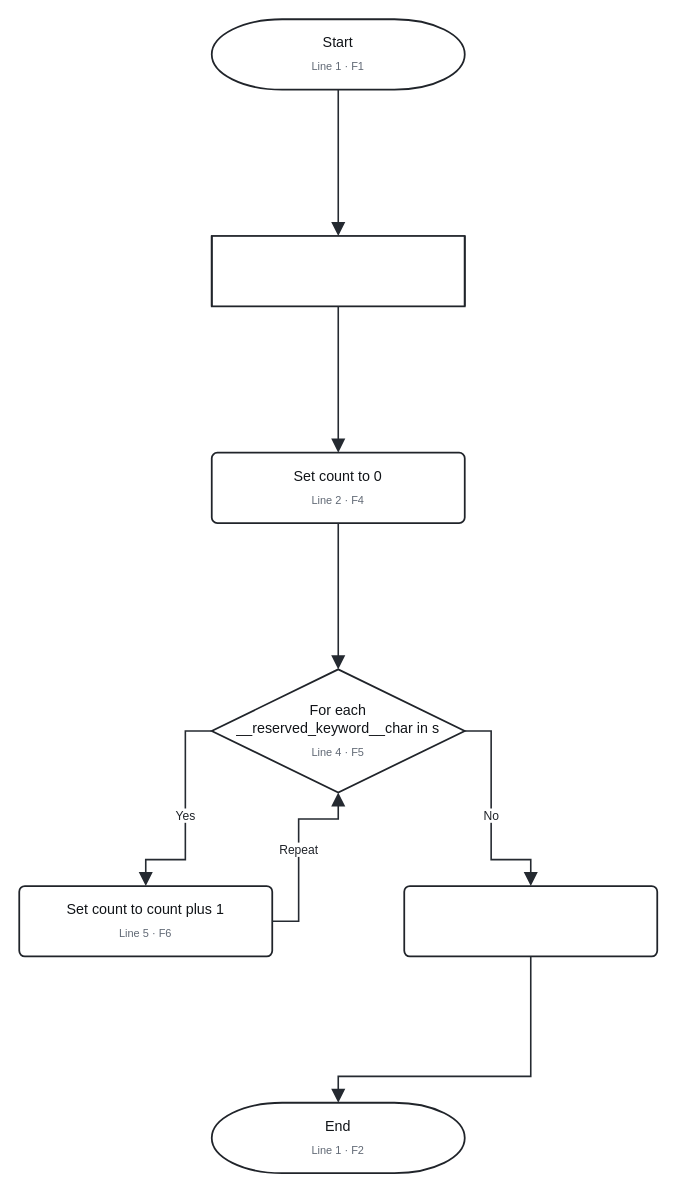
This 678x1194 diagram has some shape labels left out. The shapes that lost their labels are listed below. From the top down, each one's centre as x and y in pixels, then its label:
At point 337,271: "Run function unnamed_function with s Line 1 · F3".
At point 530,921: "Return count Line 8 · F7".
